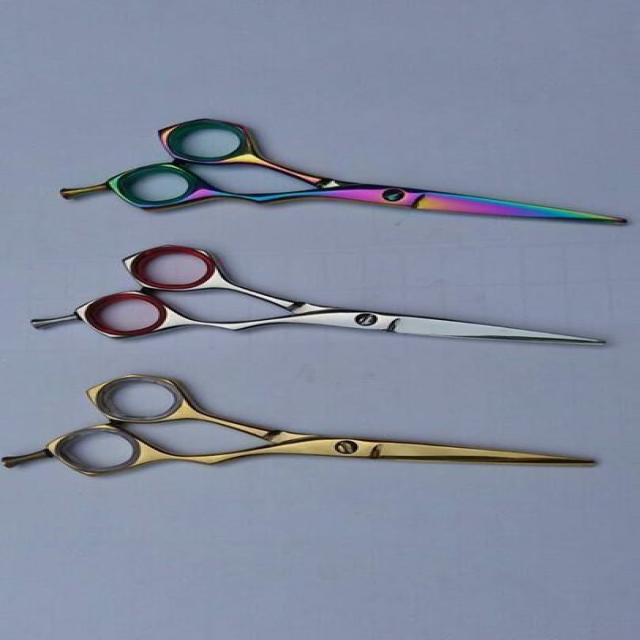scissor: (22, 99, 633, 235)
